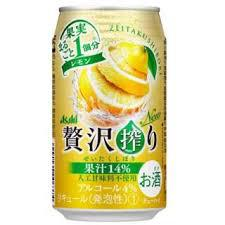beer: (52, 6, 180, 225)
